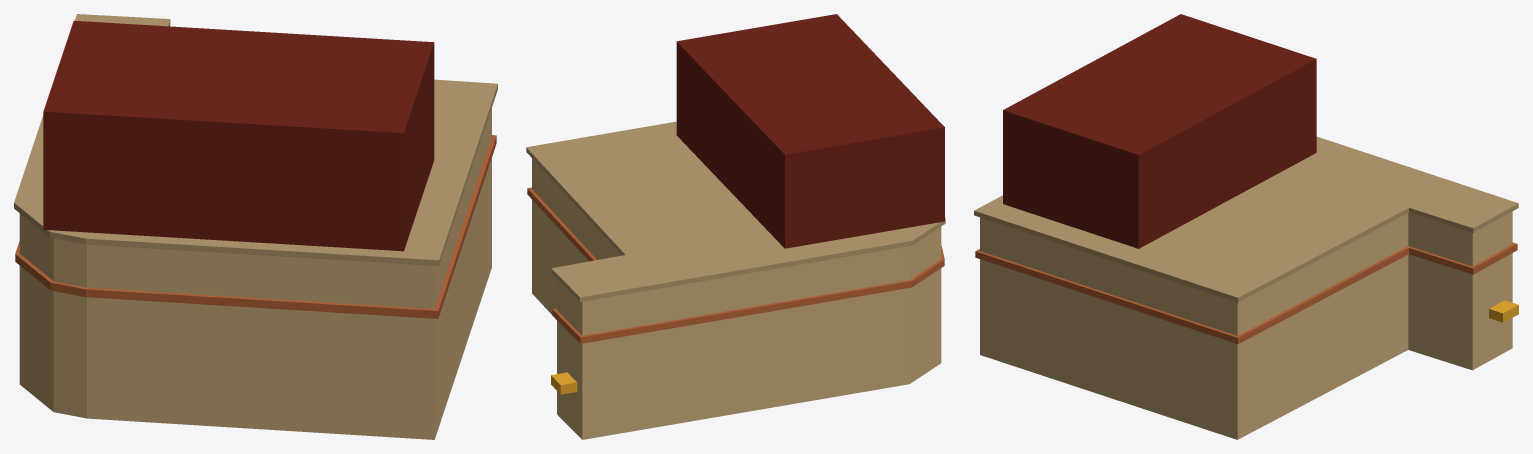
Rendered from carpenter-theatre-dominion-energy-center.glb.
3 views of the same model, side by side, from view 1: azimuth 30°, elevation 25°; view 2: azimuth 150°, elevation 25°; view 3: azimuth 270°, elevation 25° (orthographic). The views are drawn at different scales.
Parts seen in each view (by area): view 1: flytower, body, carpenter-theatre-dominion-energy-center_1, carpenter-theatre-dominion-energy-center_4; view 2: body, flytower, carpenter-theatre-dominion-energy-center_1, carpenter-theatre-dominion-energy-center_4, carpenter-theatre-dominion-energy-center_3; view 3: body, flytower, carpenter-theatre-dominion-energy-center_1, carpenter-theatre-dominion-energy-center_4.
Boxes of the visible parts, x1,y1,x2,y2 form: flytower: [43, 20, 434, 251]; body: [19, 108, 491, 439]; carpenter-theatre-dominion-energy-center_1: [14, 14, 497, 266]; carpenter-theatre-dominion-energy-center_4: [15, 135, 496, 318]; body: [532, 158, 941, 439]; flytower: [676, 14, 944, 248]; carpenter-theatre-dominion-energy-center_1: [526, 121, 945, 301]; carpenter-theatre-dominion-energy-center_4: [527, 187, 944, 343]; carpenter-theatre-dominion-energy-center_3: [551, 372, 577, 394]; body: [980, 211, 1512, 439]; flytower: [1003, 14, 1316, 248]; carpenter-theatre-dominion-energy-center_1: [974, 136, 1518, 302]; carpenter-theatre-dominion-energy-center_4: [975, 242, 1517, 343].
Size of the model in its own units: 52.14 by 30.5 by 63.17.
